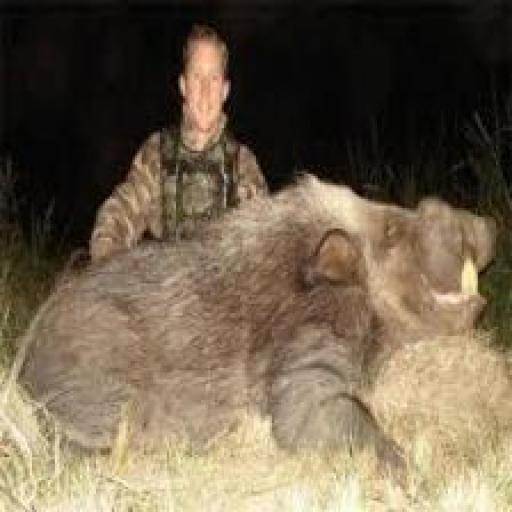Pig: (14, 190, 508, 472)
